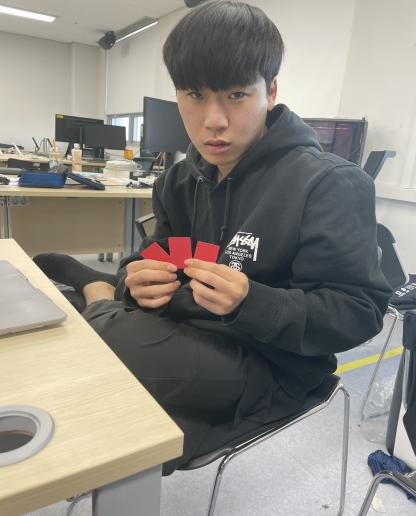ThreeHwatoo: (129, 230, 222, 274)
